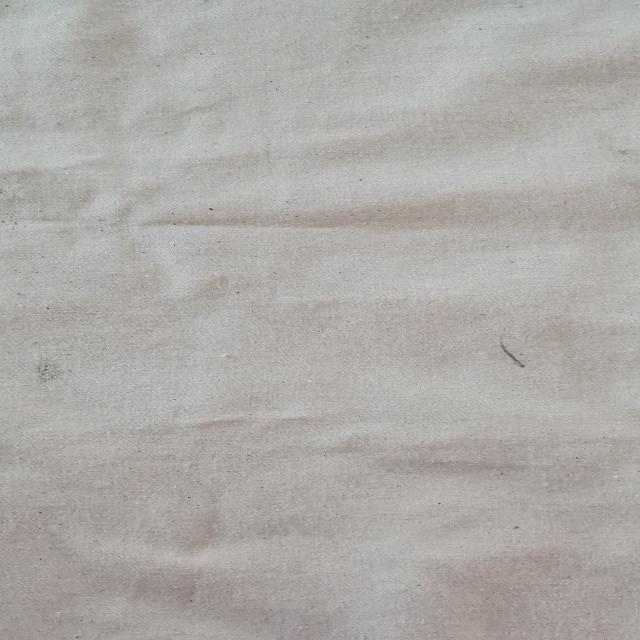taaaches: (7, 346, 82, 395), (482, 331, 544, 378)
